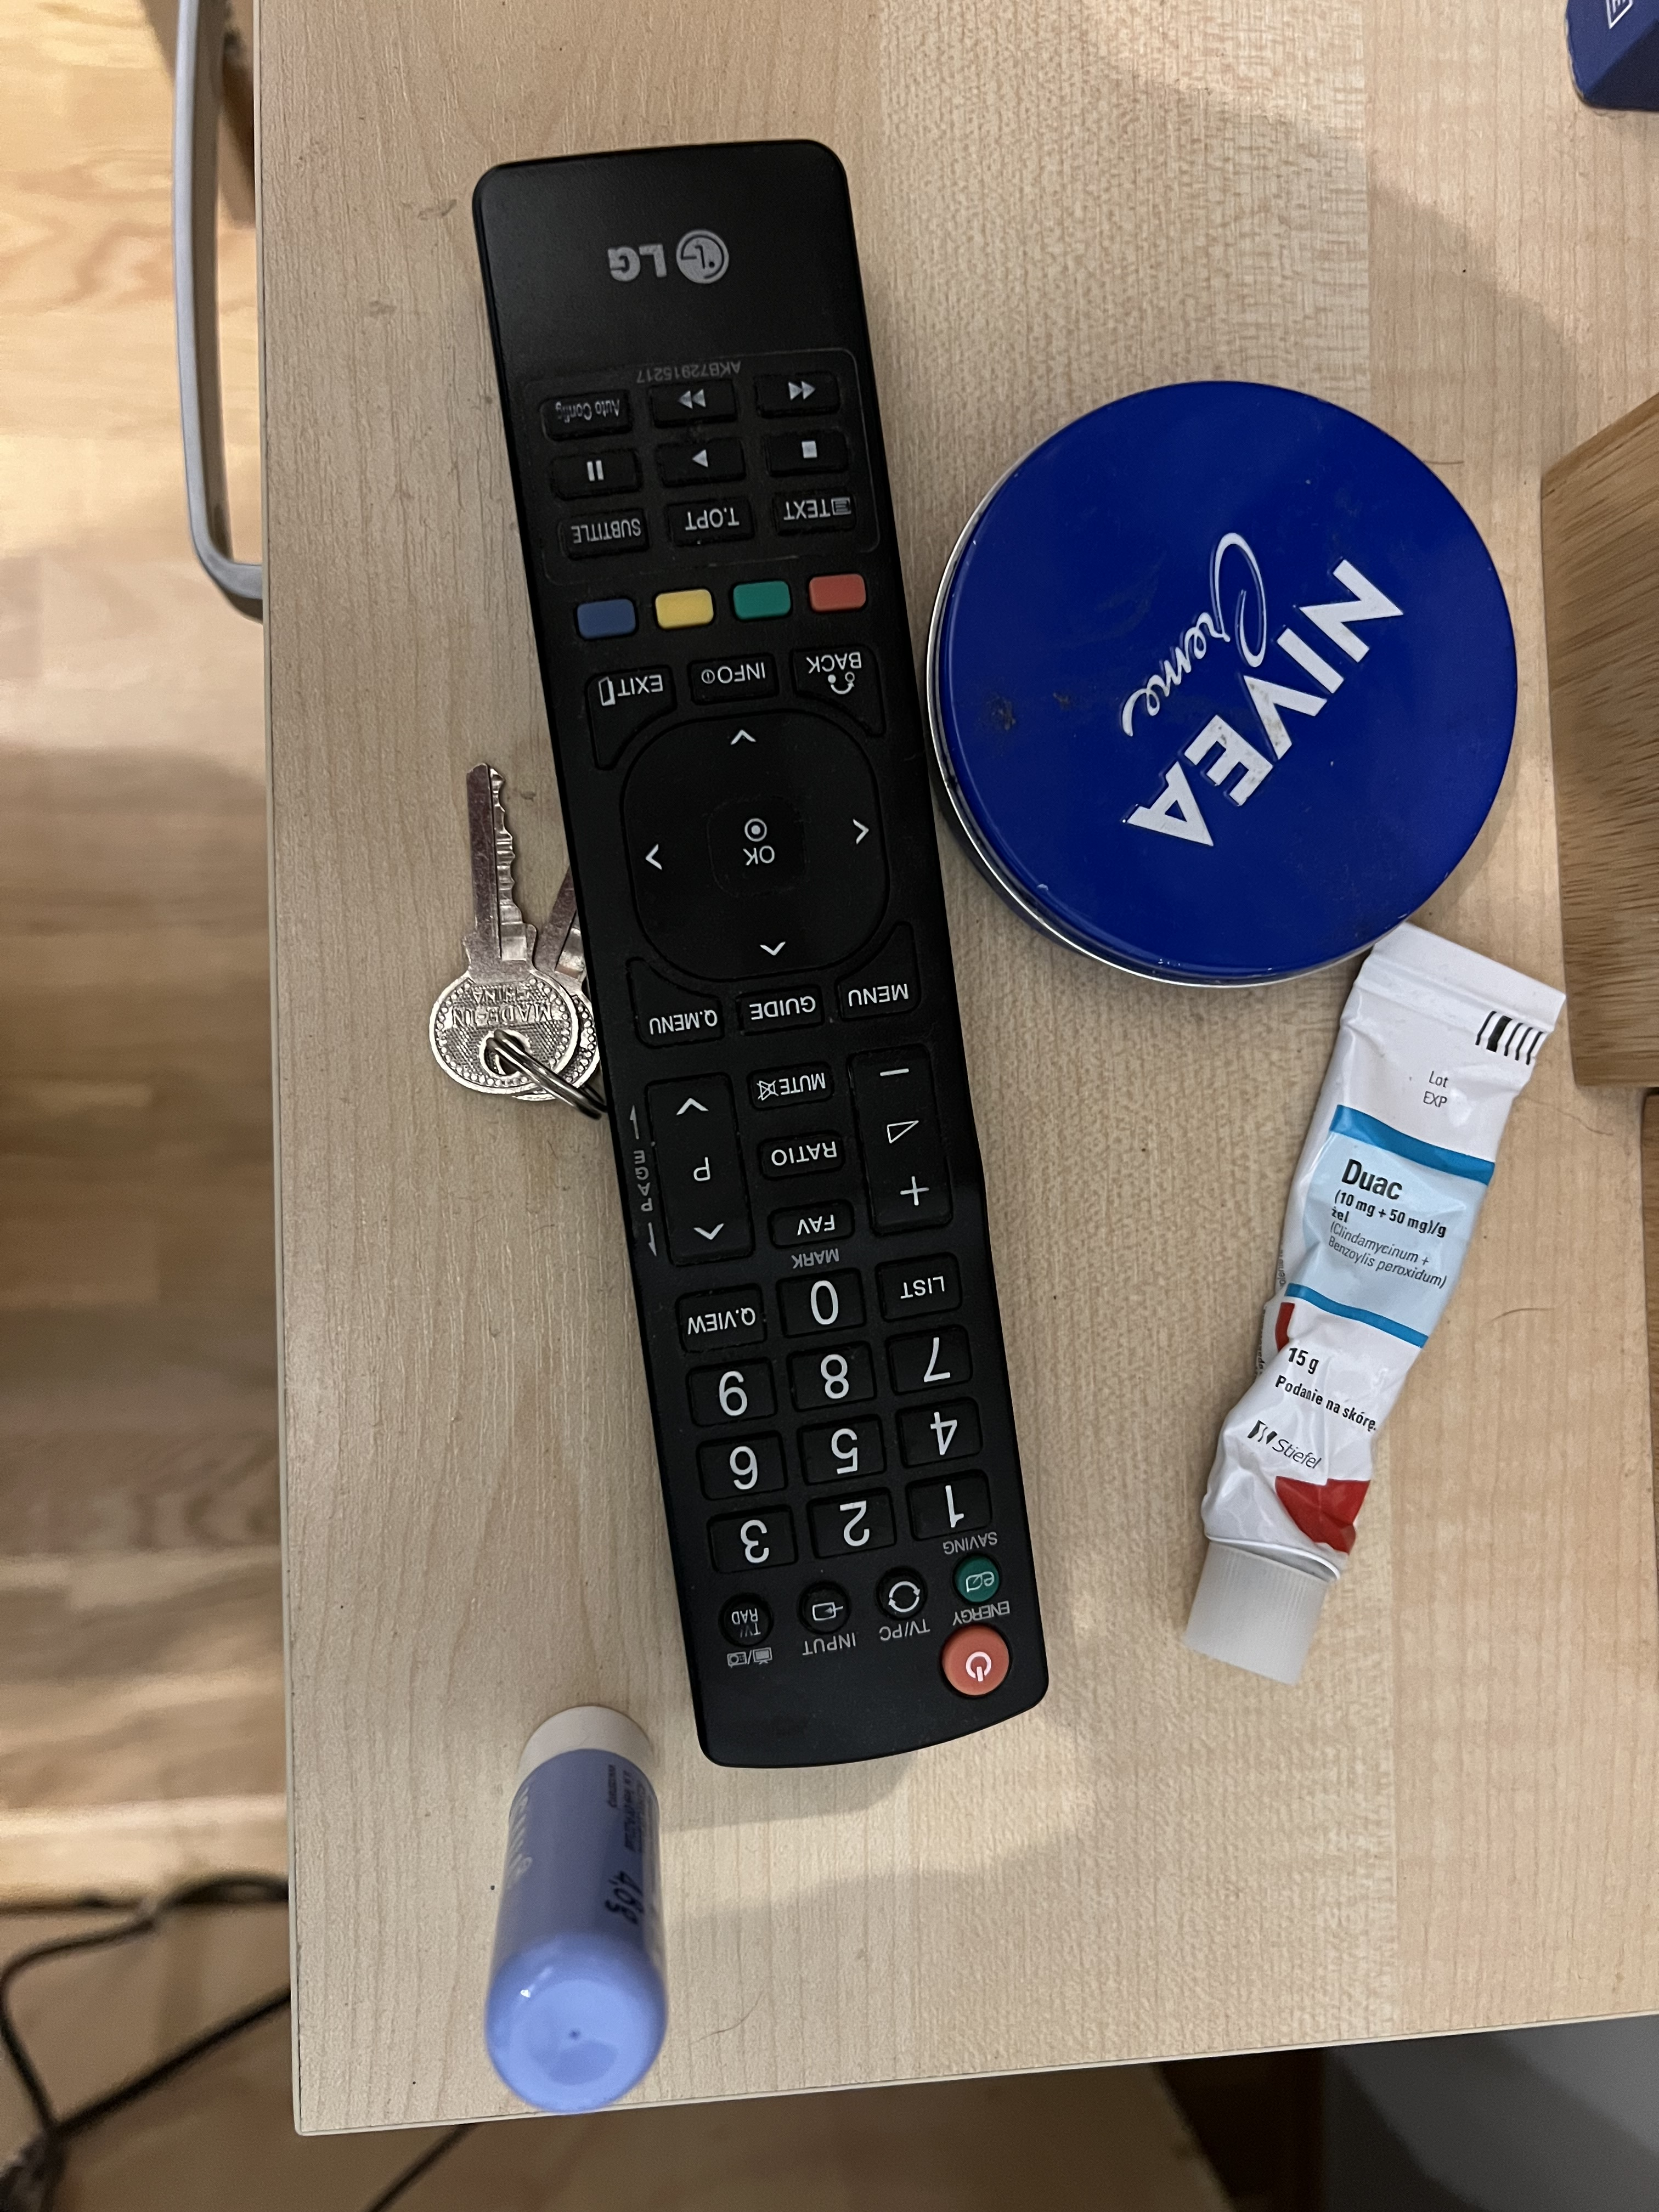METAL: (382, 763, 556, 1144)
PLASTIC: (465, 155, 854, 1808), (927, 373, 1551, 988), (1340, 895, 1601, 1674), (413, 1693, 708, 2118)
